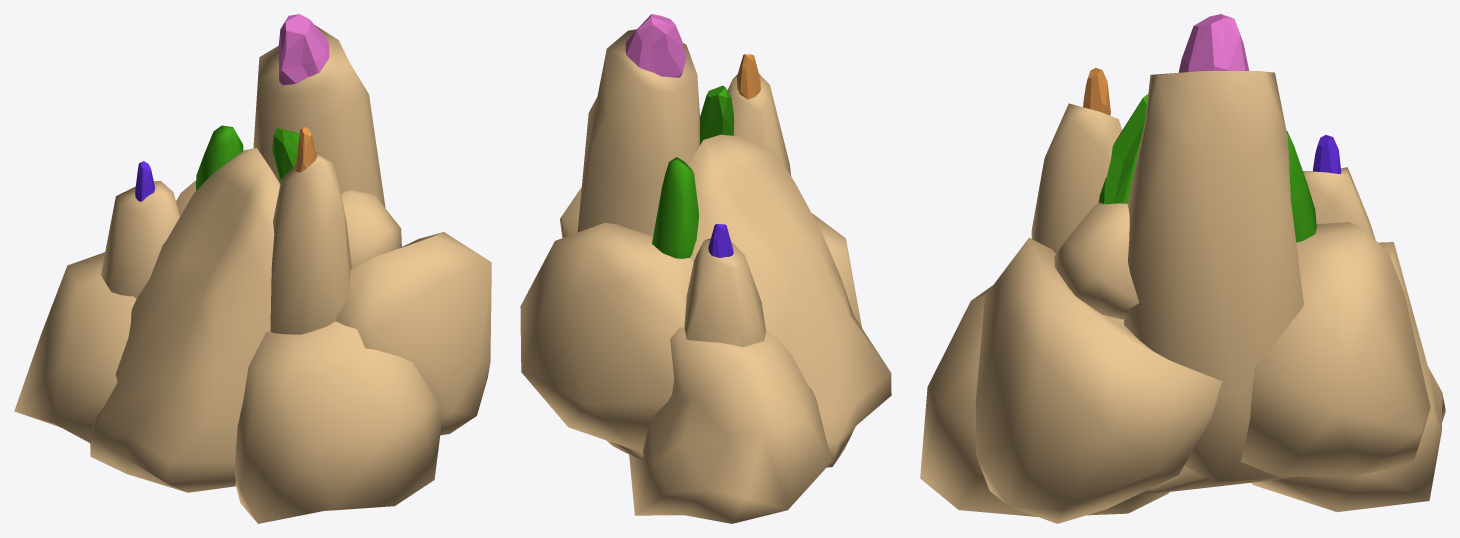
File: tutorial_Rock.fbx
The picture shows the model from 3 angles, left to right: view 1: azimuth 30°, elevation 25°; view 2: azimuth 150°, elevation 25°; view 3: azimuth 270°, elevation 25°; orthographic projection. The views are drawn at different scales.
Visible parts, largest first — view 1: tut_rock, tut_rock.001, tut_rock.006, tut_rock.002, tut_rock.004, tut_rock.007, tut_rock.003, tut_rock.013, tut_rock.010, tut_rock.011, tut_rock.012, tut_rock.008 (+1 smaller); view 2: tut_rock.005, tut_rock.002, tut_rock, tut_rock.007, tut_rock.003, tut_rock.011, tut_rock.010, tut_rock.004, tut_rock.012, tut_rock.001, tut_rock.008, tut_rock.009 (+1 smaller); view 3: tut_rock.007, tut_rock.006, tut_rock.005, tut_rock.001, tut_rock.004, tut_rock.002, tut_rock.013, tut_rock.010, tut_rock.003, tut_rock.012, tut_rock.011, tut_rock (+2 smaller).
Part boxes in pixels (box(x1,y1,x2,y2)): tut_rock: box(90, 148, 280, 492); tut_rock.001: box(234, 321, 441, 523); tut_rock.006: box(336, 232, 491, 435); tut_rock.002: box(14, 252, 136, 443); tut_rock.004: box(270, 152, 351, 334); tut_rock.007: box(253, 25, 385, 207); tut_rock.003: box(101, 180, 179, 298); tut_rock.013: box(341, 190, 401, 269); tut_rock.010: box(278, 14, 329, 84); tut_rock.011: box(196, 125, 243, 190); tut_rock.012: box(272, 128, 299, 183); tut_rock.008: box(295, 127, 316, 172); tut_rock.005: box(520, 222, 693, 450); tut_rock.002: box(629, 327, 831, 523); tut_rock: box(606, 134, 891, 467); tut_rock.007: box(577, 29, 699, 236); tut_rock.003: box(684, 238, 765, 347); tut_rock.011: box(652, 157, 699, 258); tut_rock.010: box(625, 14, 686, 77); tut_rock.004: box(727, 74, 791, 176); tut_rock.012: box(700, 85, 733, 144); tut_rock.001: box(812, 213, 861, 327); tut_rock.008: box(737, 54, 760, 99); tut_rock.009: box(708, 224, 733, 257); tut_rock.007: box(1124, 71, 1303, 482); tut_rock.006: box(975, 237, 1222, 523); tut_rock.005: box(1241, 222, 1430, 476); tut_rock.001: box(920, 285, 1169, 516); tut_rock.004: box(1031, 103, 1122, 253); tut_rock.002: box(1251, 242, 1445, 512); tut_rock.013: box(1054, 202, 1139, 319); tut_rock.010: box(1178, 14, 1249, 72); tut_rock.003: box(1303, 167, 1375, 239); tut_rock.012: box(1098, 94, 1148, 204); tut_rock.011: box(1286, 131, 1316, 242); tut_rock: box(1137, 465, 1296, 495).
Bounding box in the file's own units: 121 × 141 × 128.
